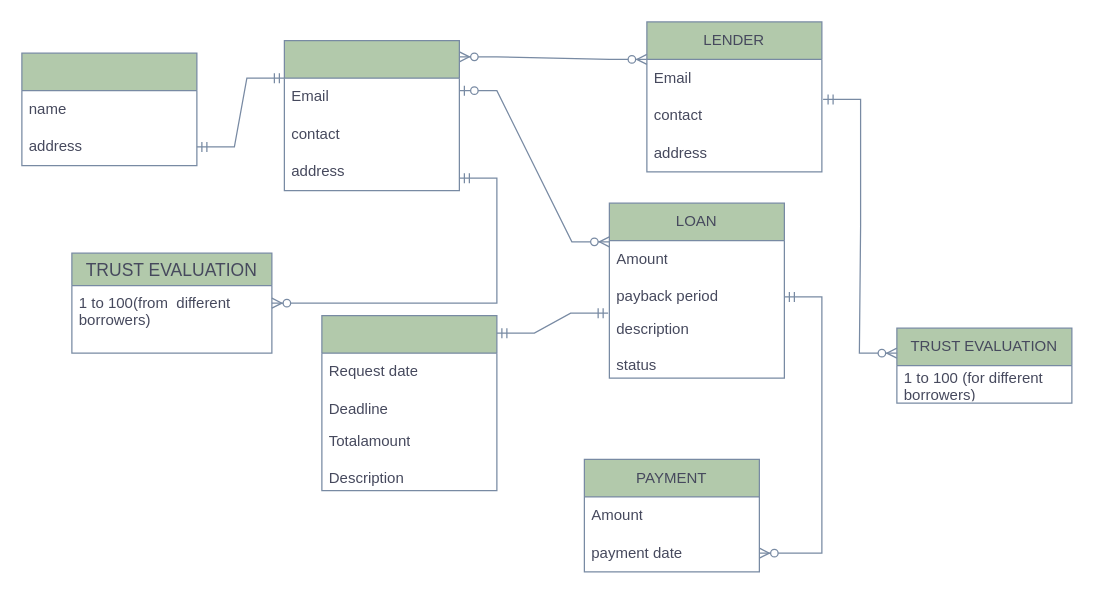
Some shapes in this 1094 by 594 pixel diagram are drawn without their labels. Here are the shapes that lost their labels. From the top down, the box of each, then its label:
(21, 52, 197, 166): INTERMEDIARY
(283, 39, 459, 191): BORROWER
(321, 314, 497, 491): LOAN REQUEST
